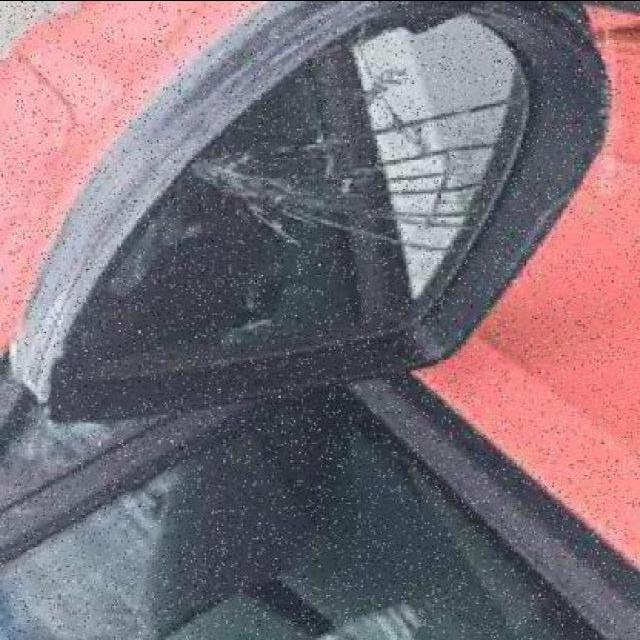Sidemirror-Damage: (3, 1, 612, 487)
